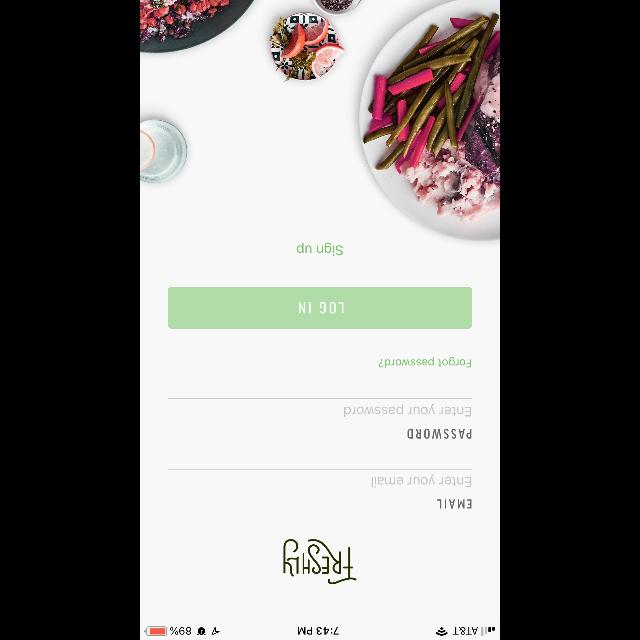image: (140, 0, 500, 242), (284, 539, 356, 585)
input: (168, 398, 472, 418), (168, 468, 472, 488)
text: (344, 404, 471, 416), (371, 474, 471, 488), (379, 357, 471, 368), (407, 429, 471, 439), (297, 242, 343, 255), (436, 499, 472, 509)
textbutton: (168, 287, 472, 329)
uppertaskbar: (140, 626, 500, 640)
